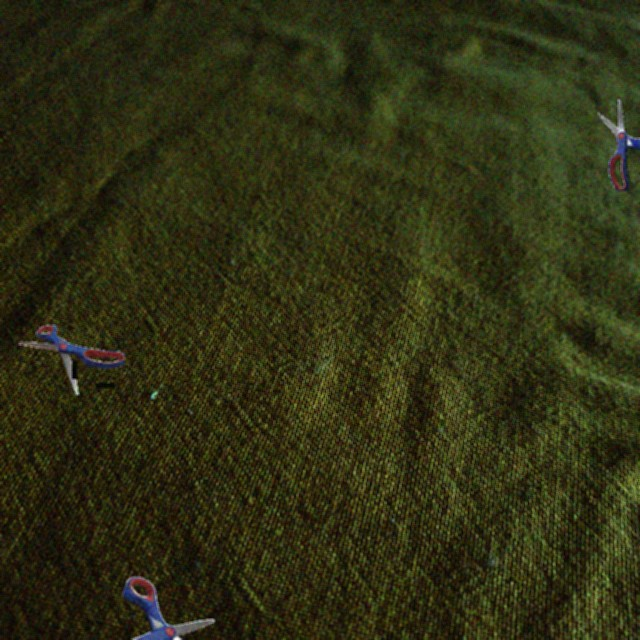scissors: (87, 576, 218, 640), (18, 325, 125, 395), (598, 99, 640, 191)
